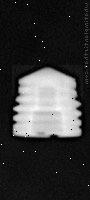Neodent: (12, 65, 83, 138)
